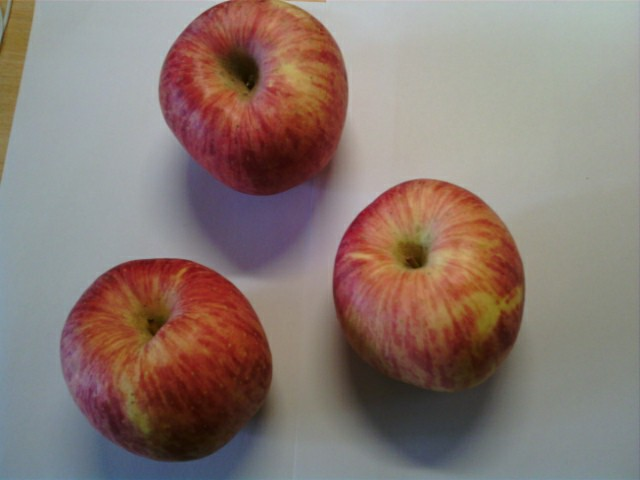normal_apple: (59, 257, 270, 462), (334, 180, 524, 393), (156, 2, 349, 196)
